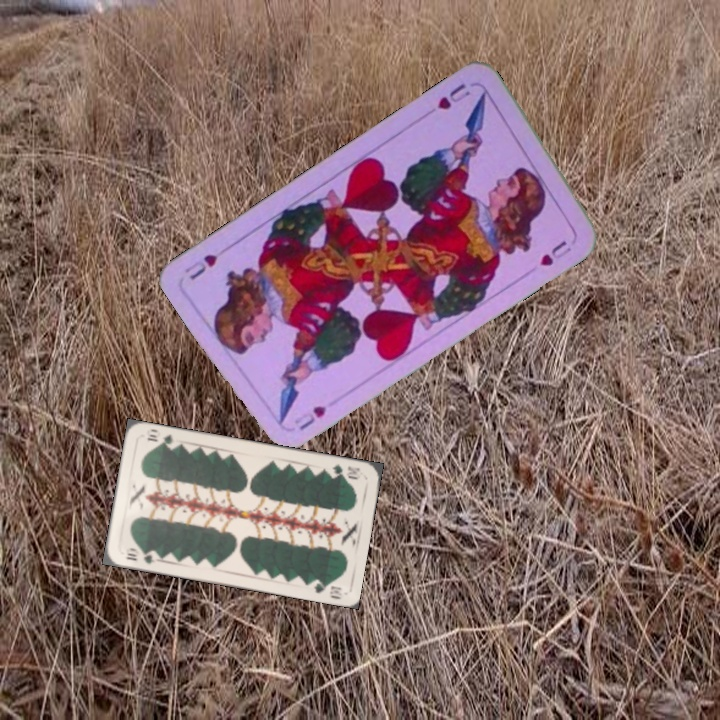G10: (328, 460, 364, 482), (122, 545, 158, 566)
HU: (433, 79, 473, 113), (290, 401, 329, 433)
